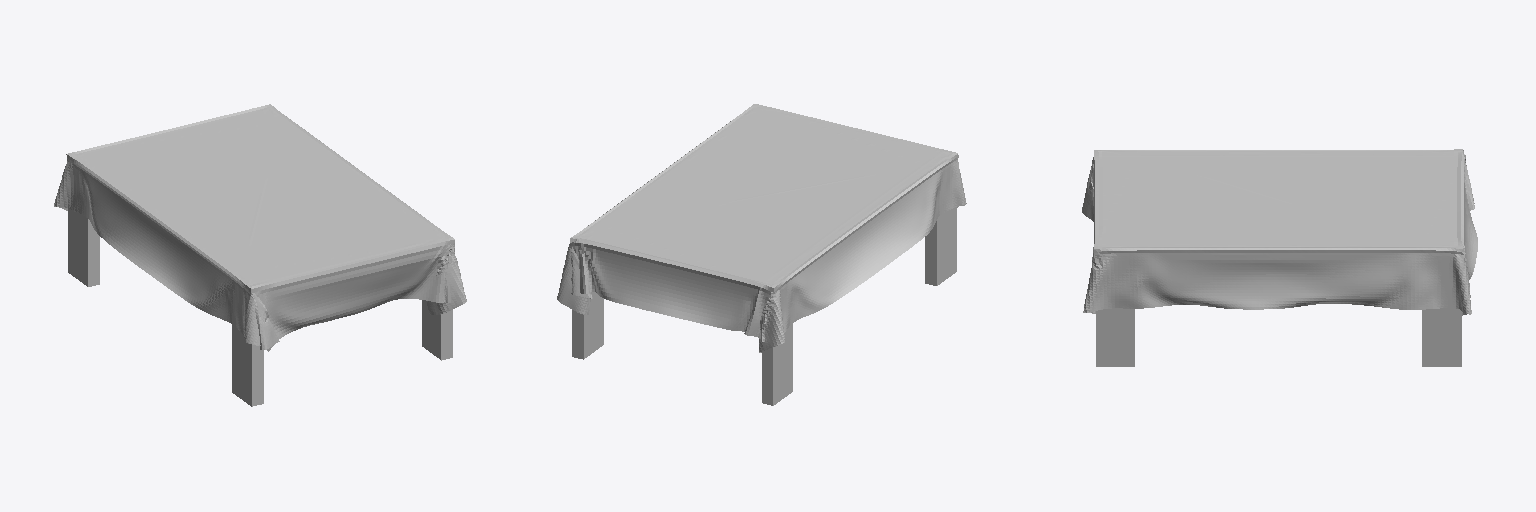
File: kitchen_table.obj
3 views of the same model, side by side, from view 1: azimuth 30°, elevation 25°; view 2: azimuth 150°, elevation 25°; view 3: azimuth 270°, elevation 25° (orthographic).
Visible parts, largest first — view 1: Plane, table; view 2: Plane, table; view 3: Plane, table.
Boxes of the visible parts, x1,y1,x2,y2 form: Plane: [54, 104, 466, 351]; table: [68, 208, 452, 406]; Plane: [557, 104, 966, 352]; table: [572, 207, 956, 405]; Plane: [1082, 149, 1477, 315]; table: [1096, 308, 1461, 366].
Bounding box in the file's own units: 6.65 × 3.26 × 9.8.